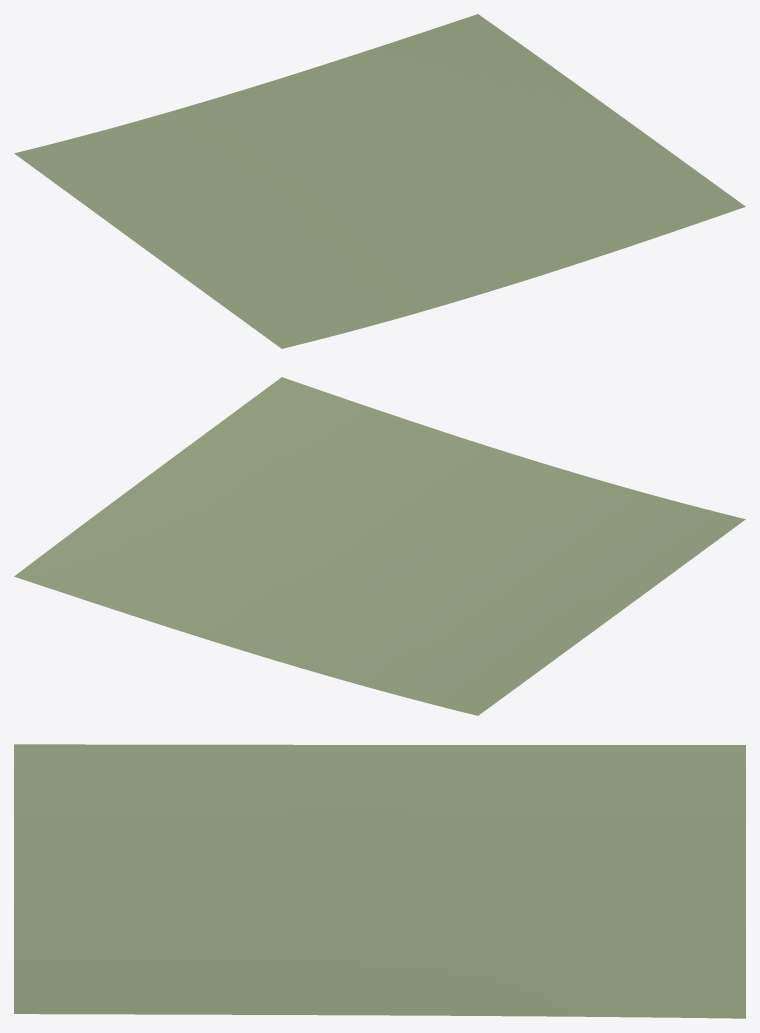
Rendered from valley-0-10.glb.
The picture shows the model from 3 angles, top to bottom: view 1: azimuth 30°, elevation 25°; view 2: azimuth 150°, elevation 25°; view 3: azimuth 270°, elevation 25°; orthographic projection. The views are drawn at different scales.
Visible parts, largest first — view 1: valley-0-10; view 2: valley-0-10; view 3: valley-0-10.
Boxes of the visible parts, x1,y1,x2,y2 form: valley-0-10: (14, 14, 745, 348); valley-0-10: (14, 377, 745, 715); valley-0-10: (14, 744, 745, 1018).
Size of the model in its own units: 256 by 15.56 by 256.
